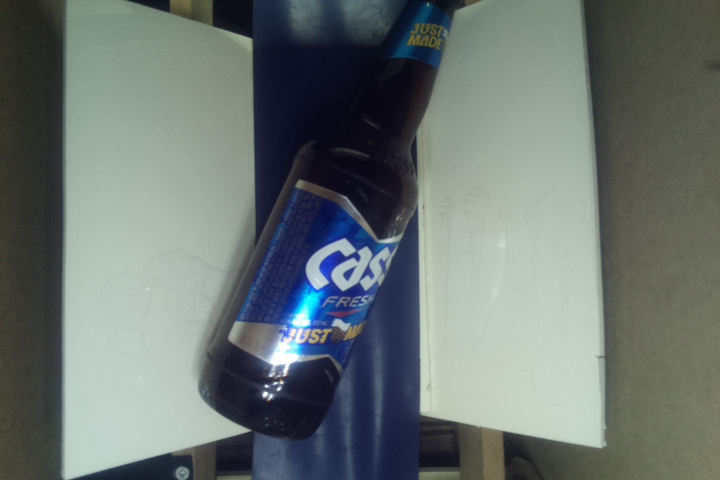makju: (195, 1, 461, 439)
